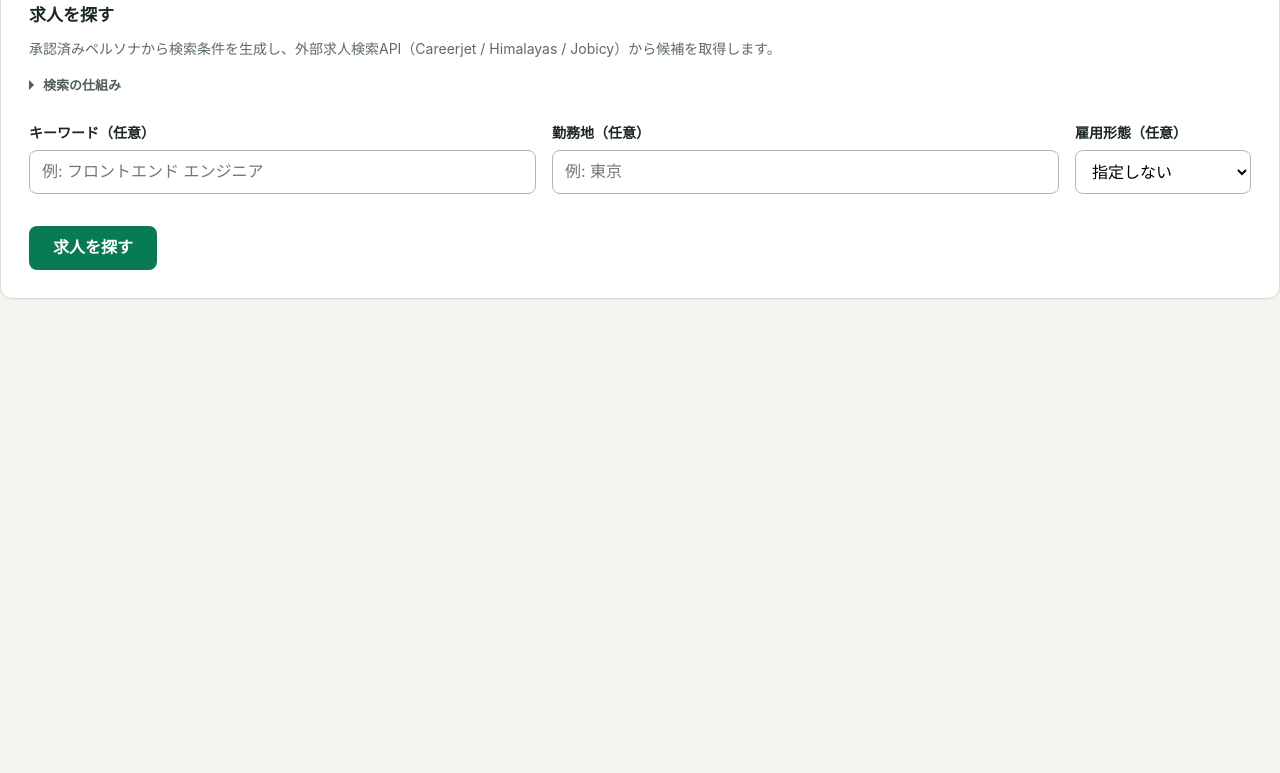
JobDiscovery one-click scoring (#115) › evaluate button imports then scores and shows 3 axes
Click the button "求人を探す".
click(93, 248)  # box [29, 226, 157, 270]
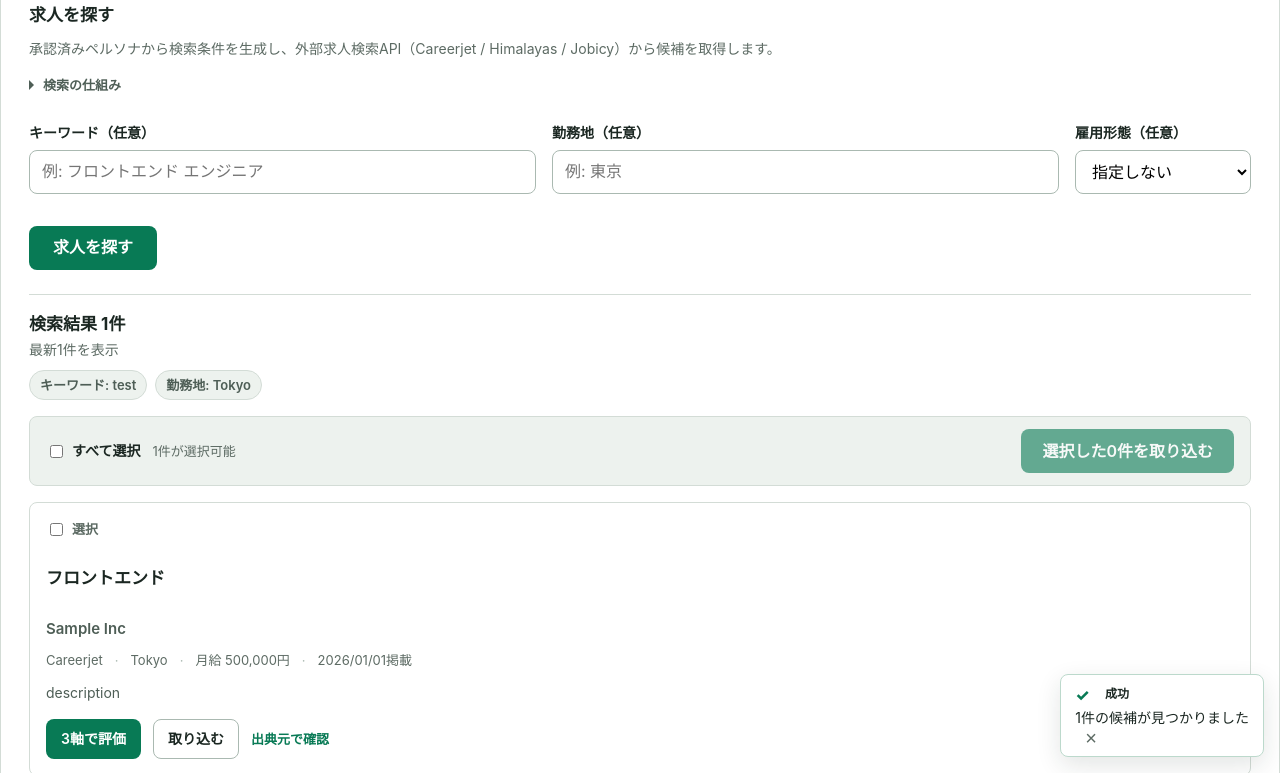
Result: the heading "フロントエンド" is shown at [46, 568, 165, 588]
Click the button "3軸で評価".
click(93, 739)  # box [46, 719, 141, 759]
(page scrolled)
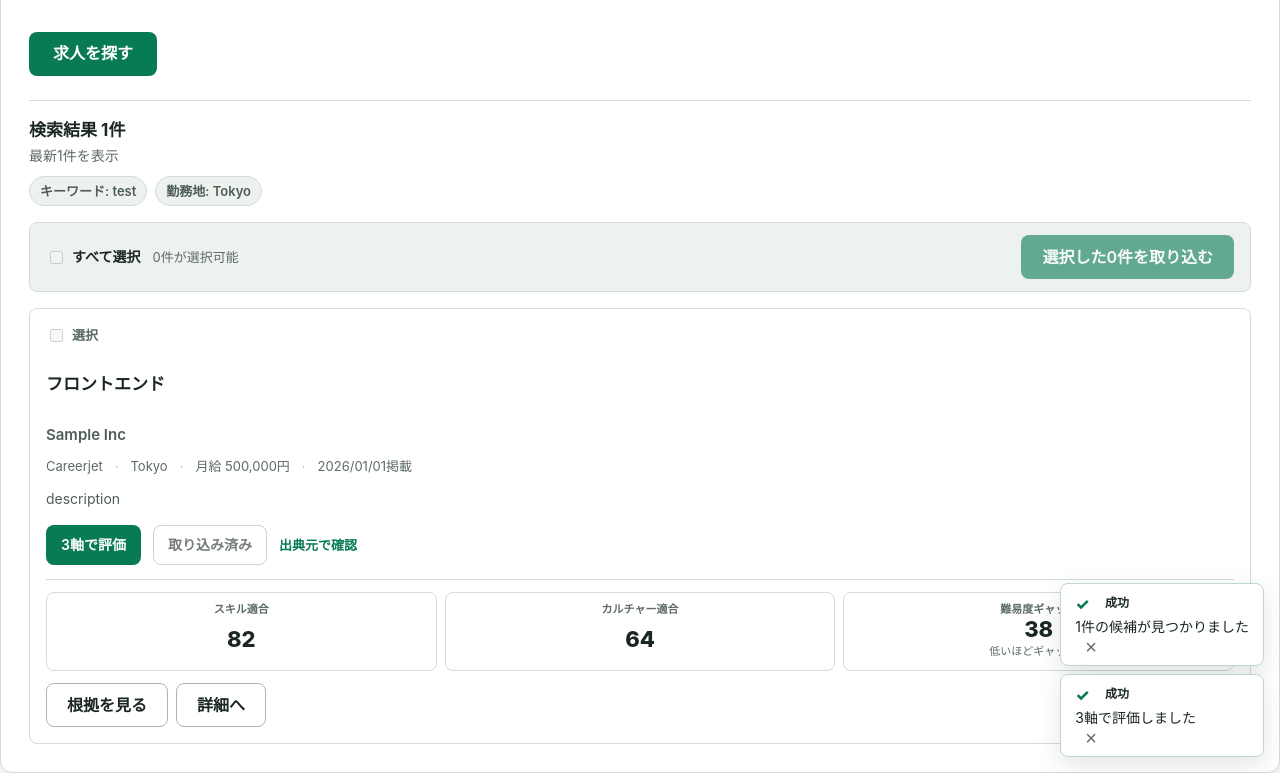
Result: the text "82" is shown at [227, 626, 256, 652]
Result: the text "64" is shown at [625, 626, 655, 652]
Result: the text "38" is shown at [1024, 616, 1053, 642]
